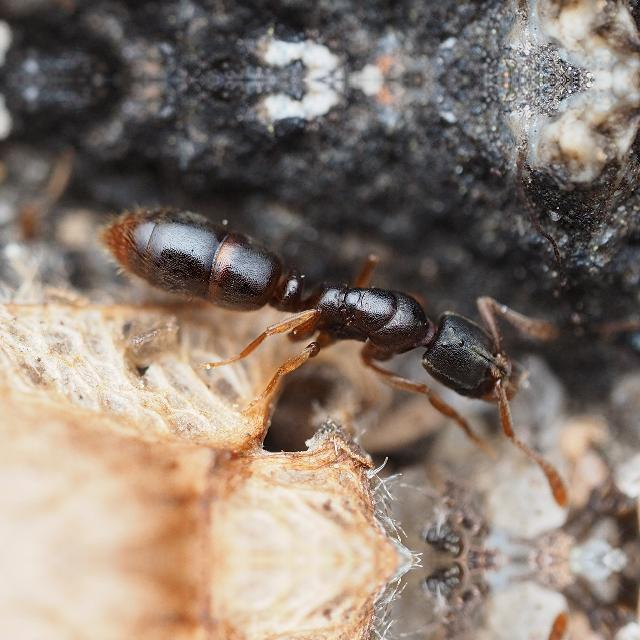Ponera: (79, 180, 585, 430)
